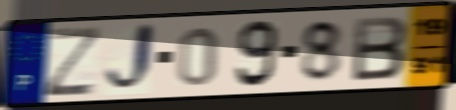0: (175, 25, 224, 88)
8: (299, 18, 345, 83)
9: (235, 19, 280, 89)
B: (350, 14, 410, 83)
J: (102, 20, 158, 97)
Z: (42, 24, 105, 99)
